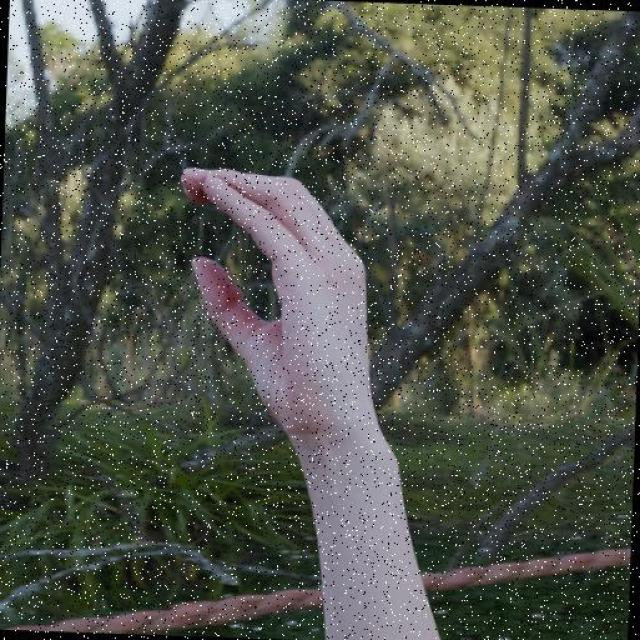C: (170, 162, 399, 436)
